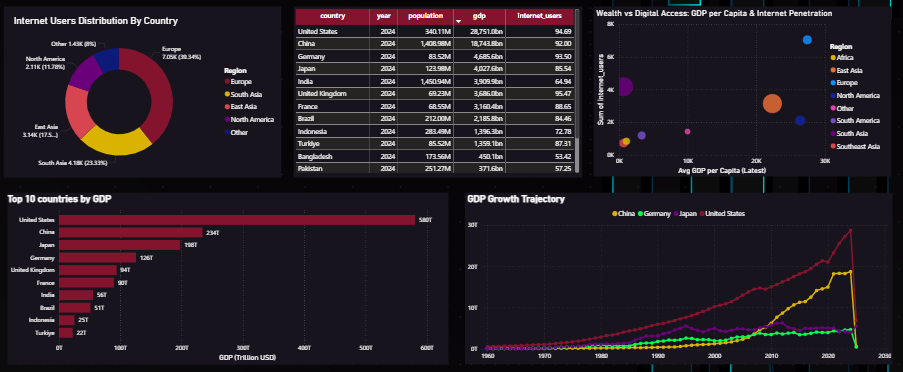

What the dashboard file says about the page in this screenshot:
{"tool":"powerbi","page":{"name":"Page 1","canvas":[1920,1650],"ordinal":0},"visuals":[{"type":"shape","box":[0,487.5,1920,137.5],"z":0},{"type":"textbox","box":[10,10,1910,106],"z":1000},{"type":"cardVisual","title":"Total Population","fields":{"Data":["Final Table.Total Population"]},"box":[36,132,350,150],"z":2000},{"type":"cardVisual","title":"Total GDP","fields":{"Data":["Final Table.Total GDP (Trillions)"]},"box":[409.8,131.7,350,150],"z":3000},{"type":"cardVisual","title":"Average GDP/Capita","fields":{"Data":["Final Table.Average GDP per Capita"]},"box":[783.7,131.5,350,150],"z":4000},{"type":"cardVisual","title":"Max GDP","fields":{"Data":["Final Table.Max_GDP"]},"box":[1157.5,131.2,350,150],"z":5000},{"type":"cardVisual","title":"Min GDP","fields":{"Data":["Final Table.Min_GDP"]},"box":[1531.3,131.1,348.9,149.9],"z":6000},{"type":"barChart","title":"Top 10 countries by GDP","fields":{"Category":["Final Table.country"],"Y":["Sum(Final Table.gdp)"]},"box":[36.7,728.2,900,416.7],"z":7000},{"type":"lineChart","title":"GDP Growth Trajectory","fields":{"Y":["Sum(Final Table.gdp)"],"Category":["Final Table.year"],"Series":["Final Table.country"]},"box":[980,728.2,900,410],"z":8000},{"type":"donutChart","title":"Internet Users Distribution By Country","fields":{"Y":["Sum(Final Table.internet_users)"],"Category":["Final Table.Region"]},"box":[36,1181.8,488,440],"z":9000},{"type":"tableEx","fields":{"Values":["Final Table.country","Final Table.year","Final Table.population","Final Table.gdp","Final Table.internet_users"]},"box":[568,1179.8,590,442],"z":10000},{"type":"scatterChart","title":"Wealth vs Digital Access: GDP per Capita & Internet Penetration","fields":{"X":["Final Table.Average GDP per Capita"],"Y":["Sum(Final Table.internet_users)"],"Size":["Sum(Final Table.population)"],"Series":["Final Table.Region"]},"box":[1190,1179.8,690,442],"z":11000},{"type":"cardVisual","title":"Latest Year GDP","fields":{"Data":["Final Table.Latest GDP"]},"box":[36.7,310,350,150],"z":12000},{"type":"cardVisual","title":"Average Internet Penetration","fields":{"Data":["Final Table.Avg_internet%"]},"box":[410,310,350,150],"z":13000},{"type":"cardVisual","title":"Country Analyed","fields":{"Data":["Final Table.country_count"]},"box":[785,310,350,150],"z":14000},{"type":"cardVisual","title":"Pakistan GDP/Capita","fields":{"Data":["Final Table.Pakistan GDP per Capita"]},"box":[1157.5,310,350,150],"z":15000},{"type":"cardVisual","title":"Highest Internet %","fields":{"Data":["Final Table.Highest Internet Penetration"]},"box":[1532.5,310,350,150],"z":16000},{"type":"slicer","title":"Count","fields":{"Values":["Final Table.country"]},"box":[33.7,499.1,600,105.7],"z":17000},{"type":"slicer","title":"Count","fields":{"Values":["Final Table.year"]},"box":[662.6,502.2,600,104],"z":18000},{"type":"slicer","title":"Count","fields":{"Values":["Final Table.Region"]},"box":[1292.6,502.2,600,104],"z":19000}]}

Visuals, with their boxes on the page's 1920x1650 design canvas (x1, y1, x2, y2). These are canvas units, not pixel positions in the 903x372 screenshot, which may show the page scaled, cropped or inside an application window:
shape: 0 488 1920 625
textbox: 10 10 1920 116
"Total Population" cardVisual: 36 132 386 282
"Total GDP" cardVisual: 410 132 760 282
"Average GDP/Capita" cardVisual: 784 132 1134 282
"Max GDP" cardVisual: 1158 131 1508 281
"Min GDP" cardVisual: 1531 131 1880 281
"Top 10 countries by GDP" barChart: 37 728 937 1145
"GDP Growth Trajectory" lineChart: 980 728 1880 1138
"Internet Users Distribution By Country" donutChart: 36 1182 524 1622
tableEx - Final Table.country x Final Table.year: 568 1180 1158 1622
"Wealth vs Digital Access: GDP per Capita & Internet Penetration" scatterChart: 1190 1180 1880 1622
"Latest Year GDP" cardVisual: 37 310 387 460
"Average Internet Penetration" cardVisual: 410 310 760 460
"Country Analyed" cardVisual: 785 310 1135 460
"Pakistan GDP/Capita" cardVisual: 1158 310 1508 460
"Highest Internet %" cardVisual: 1532 310 1882 460
"Count" slicer: 34 499 634 605
"Count" slicer: 663 502 1263 606
"Count" slicer: 1293 502 1893 606
